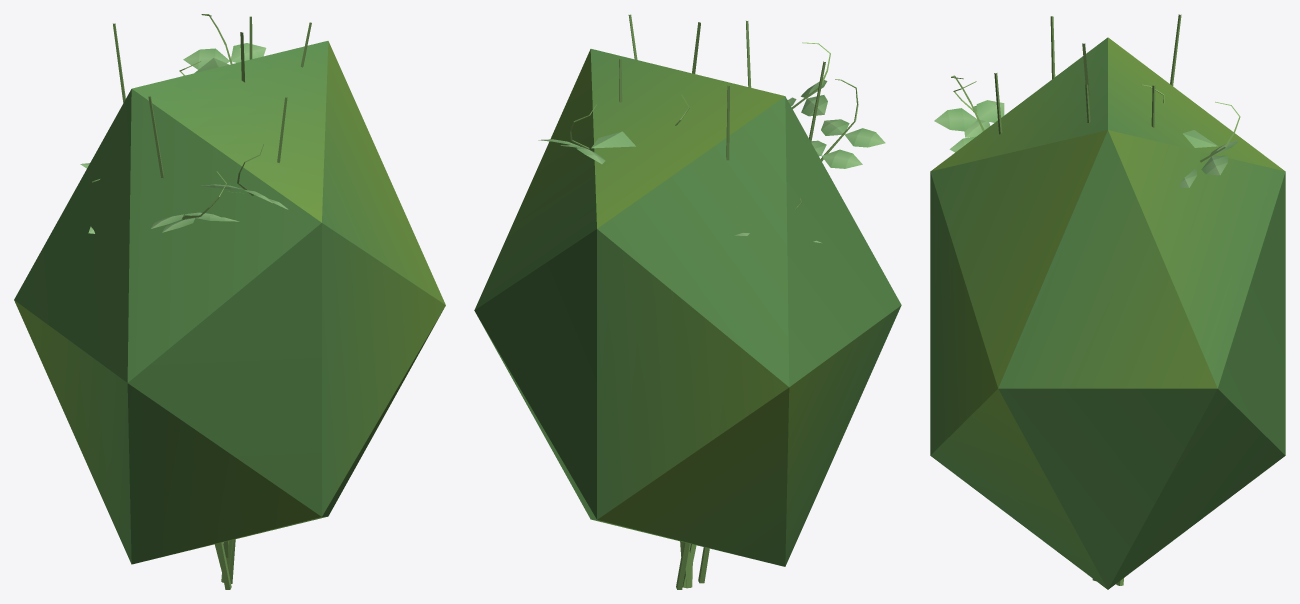
File: pea.glb
The picture shows the model from 3 angles, left to right: view 1: azimuth 30°, elevation 25°; view 2: azimuth 150°, elevation 25°; view 3: azimuth 270°, elevation 25°; orthographic projection. The views are drawn at different scales.
Visible parts, largest first — view 1: leaves (×2), stem; view 2: leaves (×2), stem; view 3: leaves (×2), stem.
Boxes of the visible parts, left/top/right/bottom form: leaves (×2): left=14, top=14, right=445, bottom=564; stem: left=113, top=16, right=311, bottom=589; leaves (×2): left=474, top=42, right=901, bottom=566; stem: left=619, top=14, right=825, bottom=589; leaves (×2): left=930, top=37, right=1285, bottom=589; stem: left=994, top=14, right=1181, bottom=585.
Size of the model in its own units: 0.6034 by 1.02 by 0.6034.
